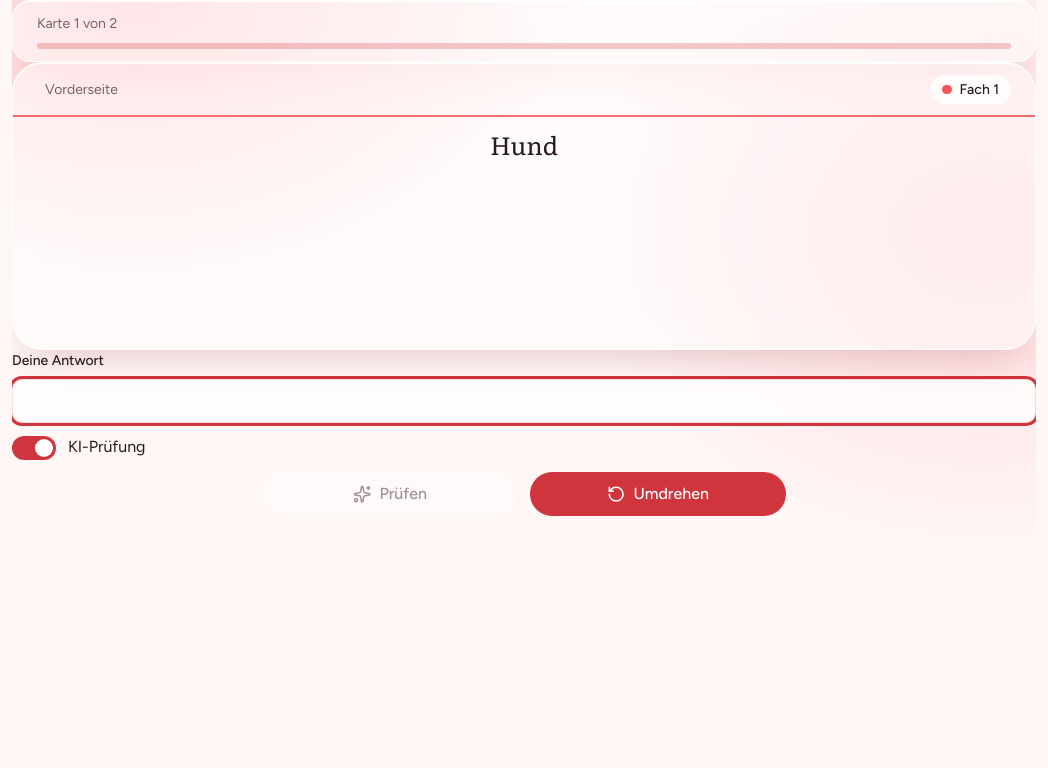
Test: LearnSession with AI check › highlights nothing for a partly correct answer
This screenshot has width=1048, height=768.
Type "do" into the field labelled "Deine Antwort".
click(524, 401); type("do")  # box x1=12 y1=379 x2=1036 y2=423
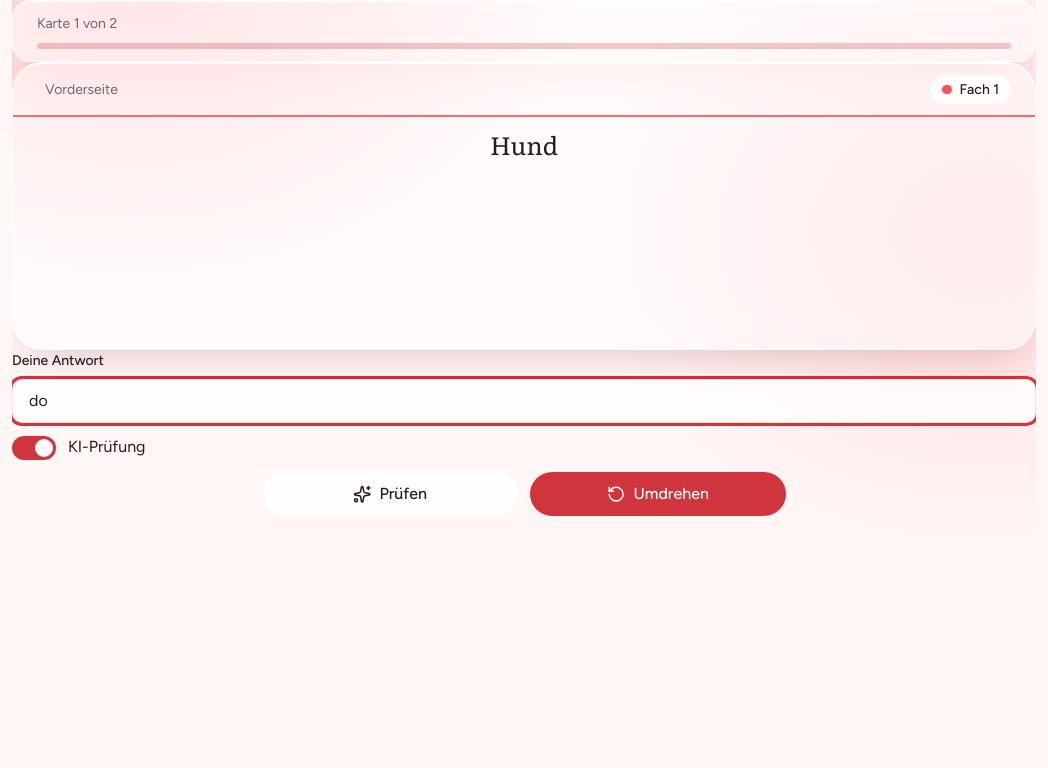
Click the button "Prüfen".
click(390, 494)  # box x1=262 y1=472 x2=518 y2=516
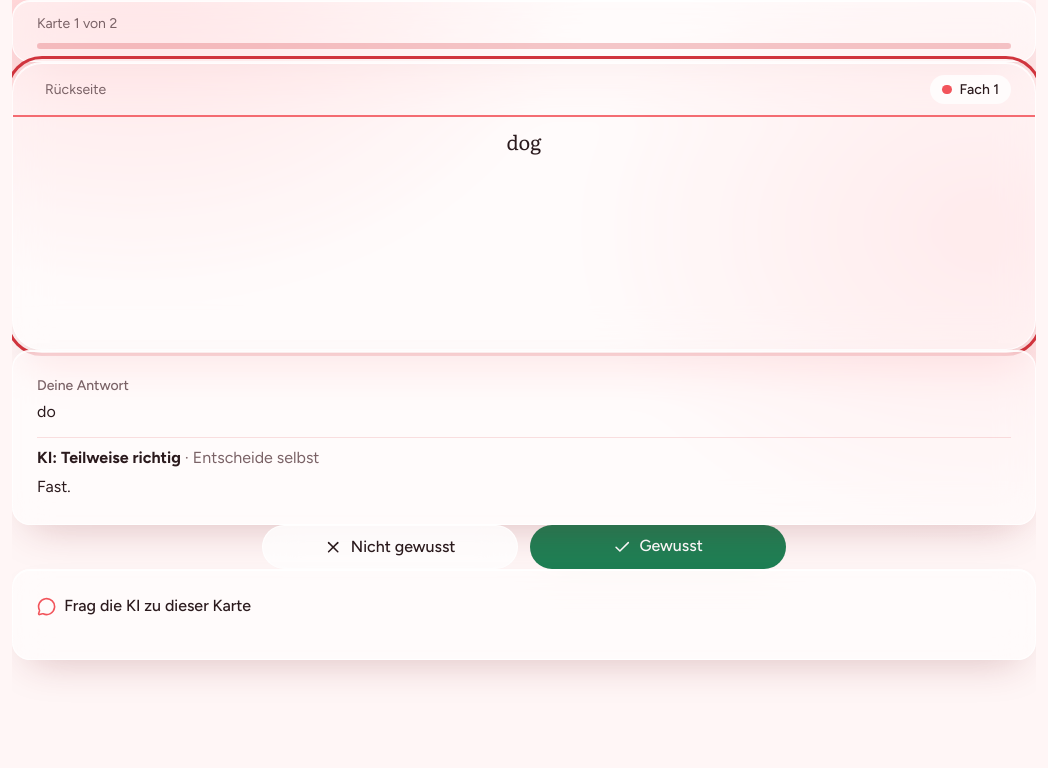
Expected: the text "KI: Teilweise richtig · Entscheide selbst" is shown, x1=37 y1=448 x2=319 y2=467
